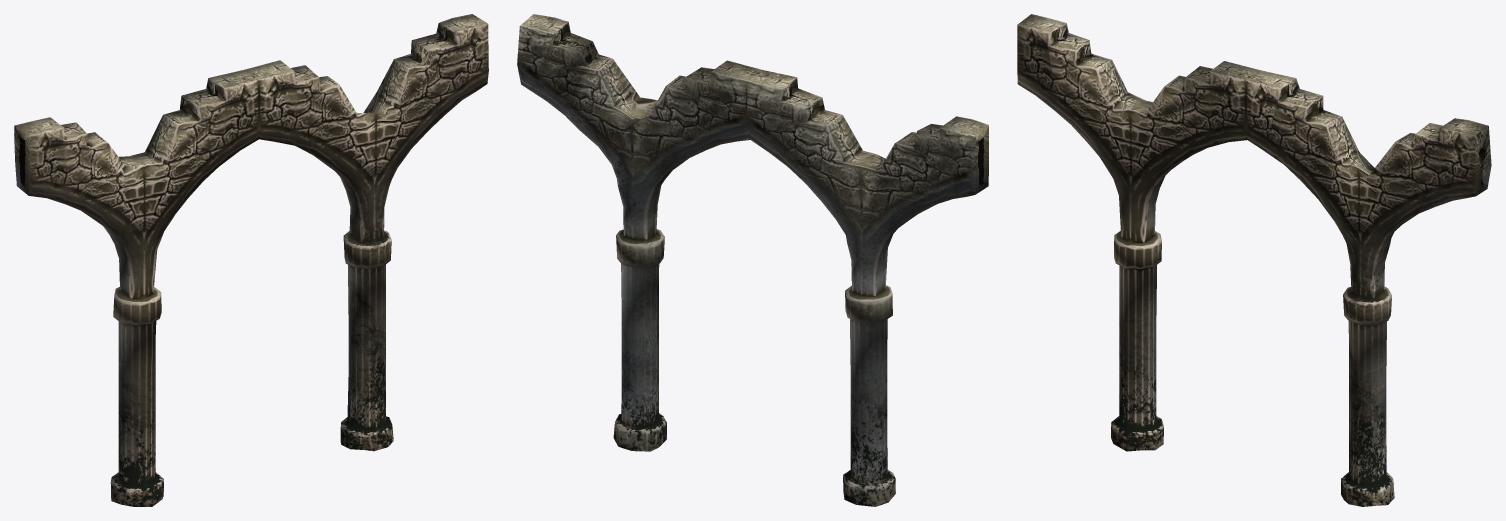
Rendered from zamok9.fbx.
The picture shows the model from 3 angles, left to right: view 1: azimuth 30°, elevation 25°; view 2: azimuth 150°, elevation 25°; view 3: azimuth 330°, elevation 25°; orthographic projection.
Parts seen in each view (by area): view 1: Lp+.009; view 2: Lp+.009; view 3: Lp+.009.
Boxes of the visible parts, <box> form: Lp+.009: <box>14,14,488,506</box>; Lp+.009: <box>517,14,988,506</box>; Lp+.009: <box>1017,14,1491,506</box>.
Bounding box in the file's own units: 2645 × 2186 × 269.
